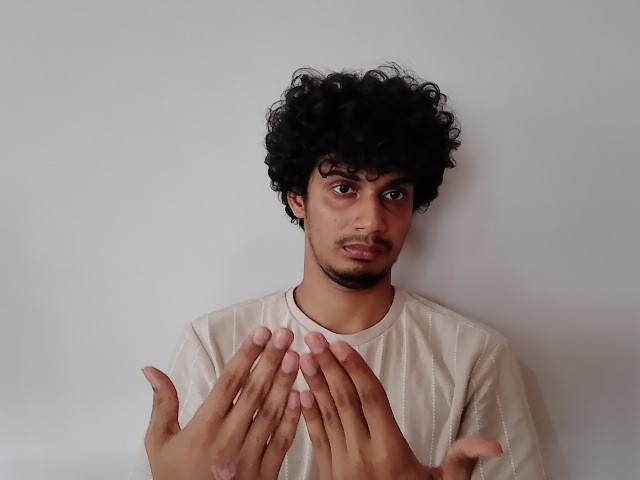thankyou: (126, 323, 519, 480)
